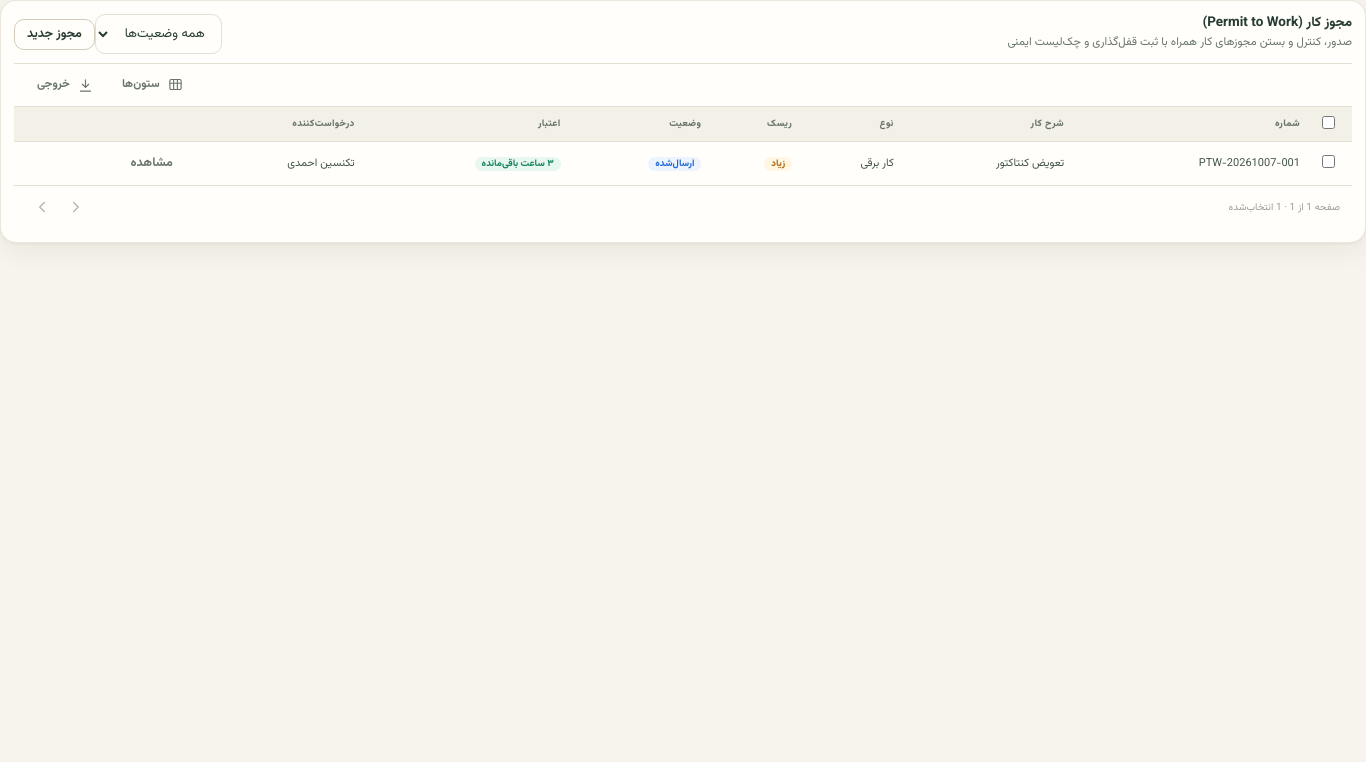
Scenario: permit to work page › enables approval once the server says the permit is ready
Click the button "مشاهده".
click(152, 163)  # box [118,148,186,179]
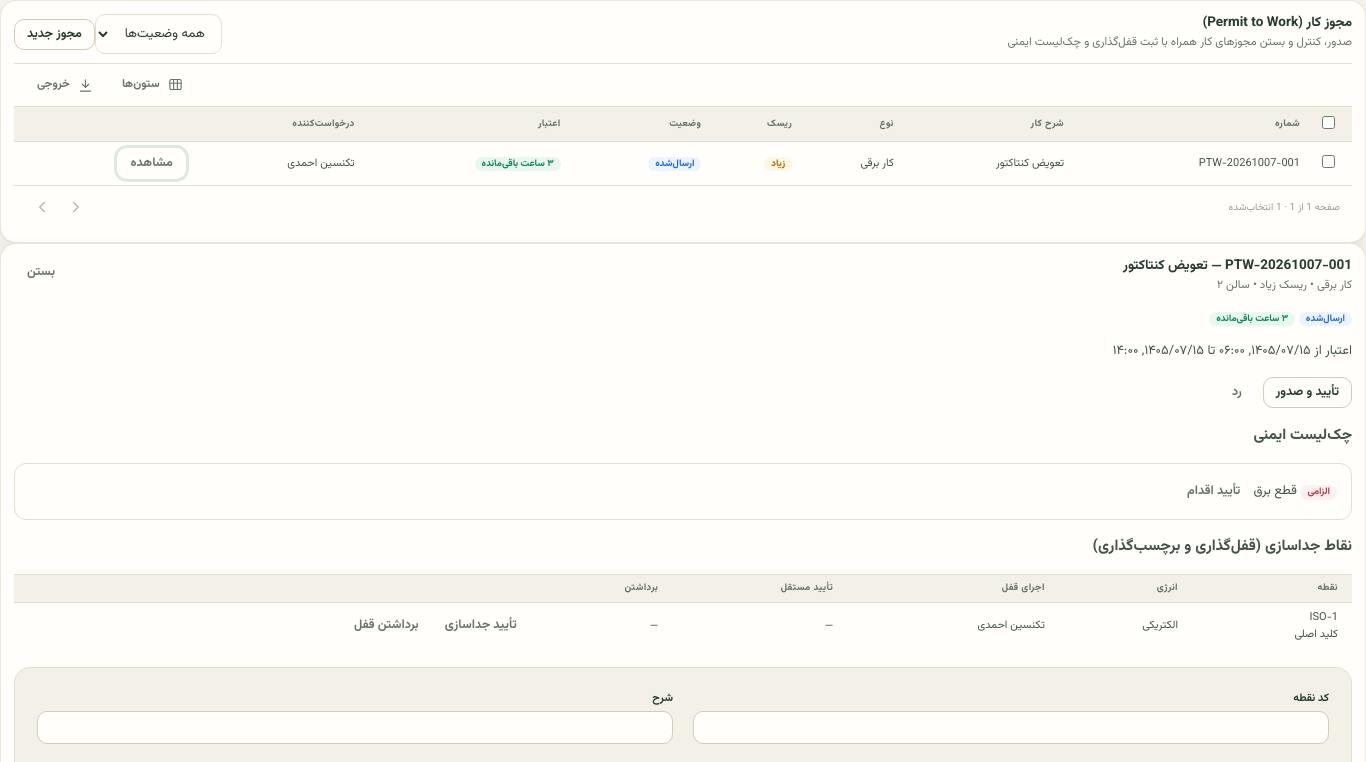
expect the button "تأیید و صدور" is enabled: met, box [1263,377,1352,408]
